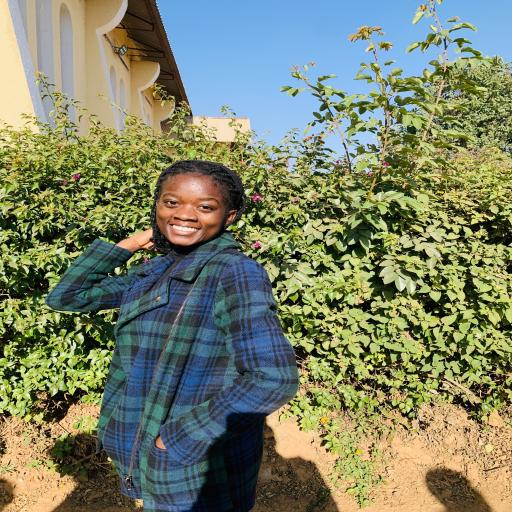LAURENE: (134, 152, 265, 256)
